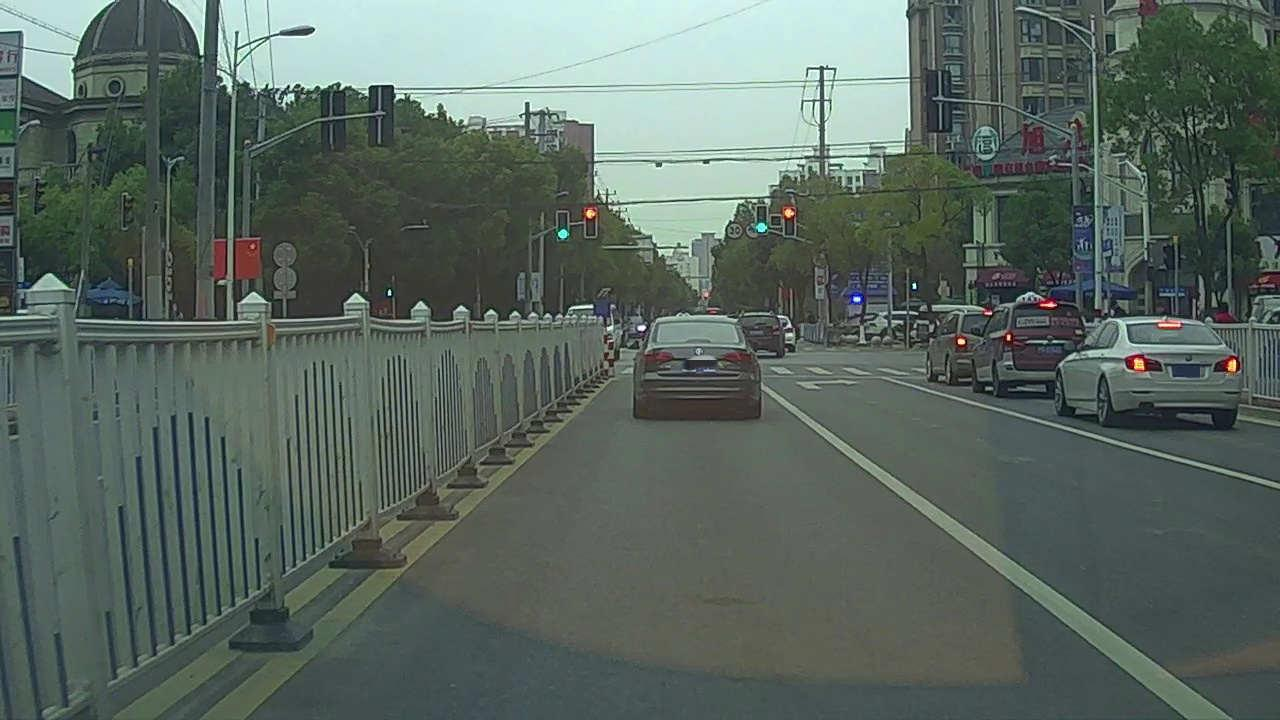traffic_light: (586, 206, 598, 235), (556, 212, 566, 240), (759, 205, 769, 233), (785, 206, 794, 233)
